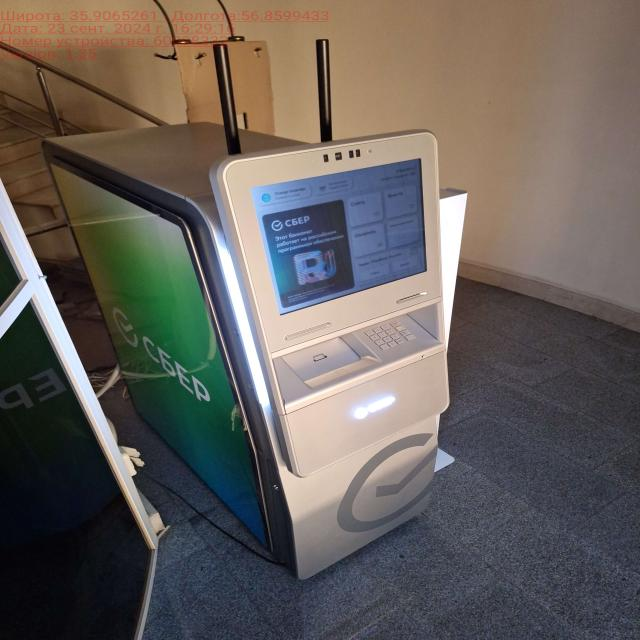bank: (38, 121, 440, 580)
